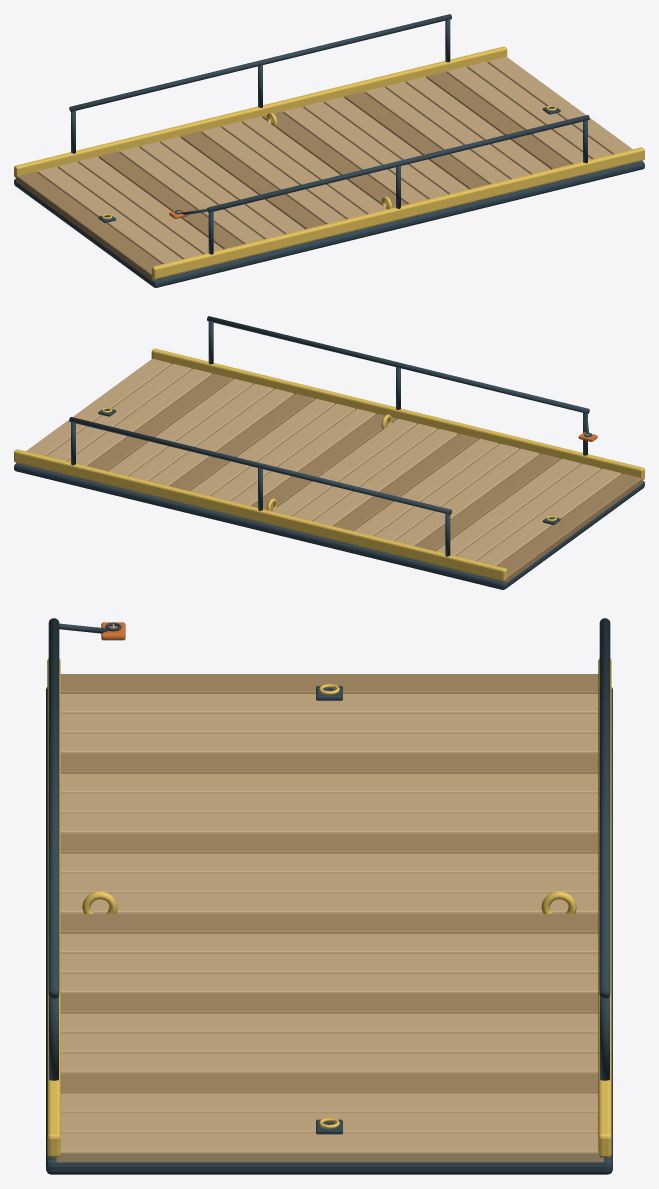
File: lift.glb
The picture shows the model from 3 angles, top to bottom: view 1: azimuth 30°, elevation 25°; view 2: azimuth 150°, elevation 25°; view 3: azimuth 270°, elevation 25°; orthographic projection. The views are drawn at different scales.
Parts seen in each view (by area): view 1: tyaga-lift-platform-surface, lift-interaction-hardware-surface; view 2: tyaga-lift-platform-surface, lift-interaction-hardware-surface; view 3: tyaga-lift-platform-surface, lift-interaction-hardware-surface.
Part boxes in pixels (<box>): tyaga-lift-platform-surface: <box>14,14,644,287</box>; lift-interaction-hardware-surface: <box>98,105,560,222</box>; tyaga-lift-platform-surface: <box>14,316,644,589</box>; lift-interaction-hardware-surface: <box>98,407,597,524</box>; tyaga-lift-platform-surface: <box>46,618,612,1174</box>; lift-interaction-hardware-surface: <box>59,622,342,1134</box>.
Bounding box in the file's own units: 8.4 × 1.2 × 4.2.
